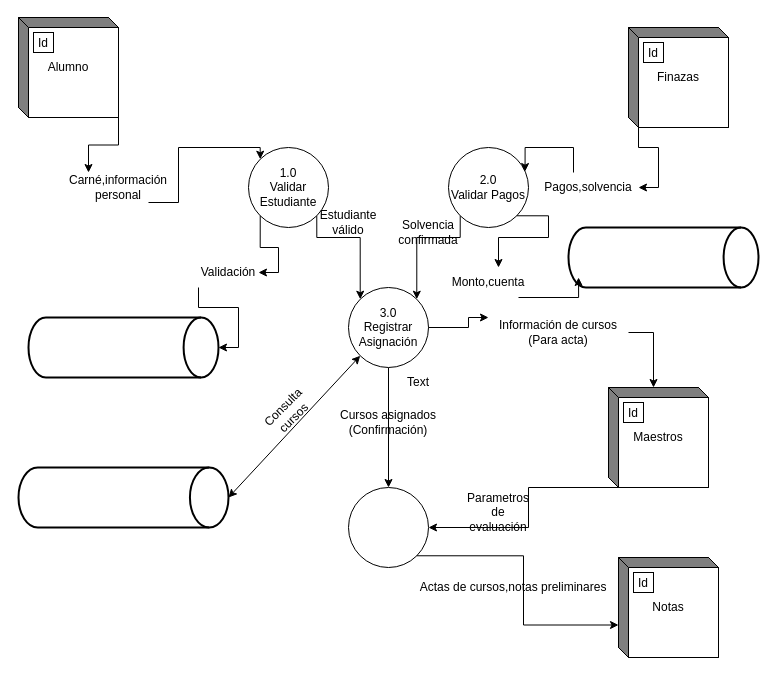
The diagram is 776 pixels wide and 675 high, and some of its shapes have lost their labels. Here are the shapes that lost their labels. From the top down, the centre of each, then its label:
At (x=663, y=257): "D2 | Pagos/finanzas".
At (x=123, y=347): "D1 | Estudiantes".
At (x=123, y=497): "D3 | Cursos ofertados".
At (x=388, y=527): "4.0 Generar Reportes y Actas".
